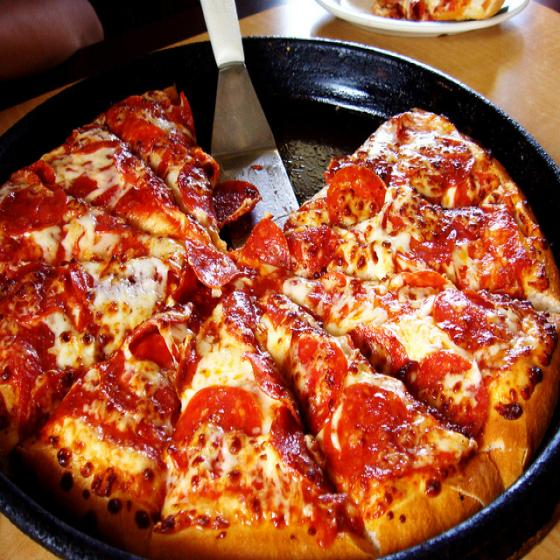dining table: (238, 0, 560, 164)
pizza: (1, 89, 560, 553), (25, 297, 200, 550)
